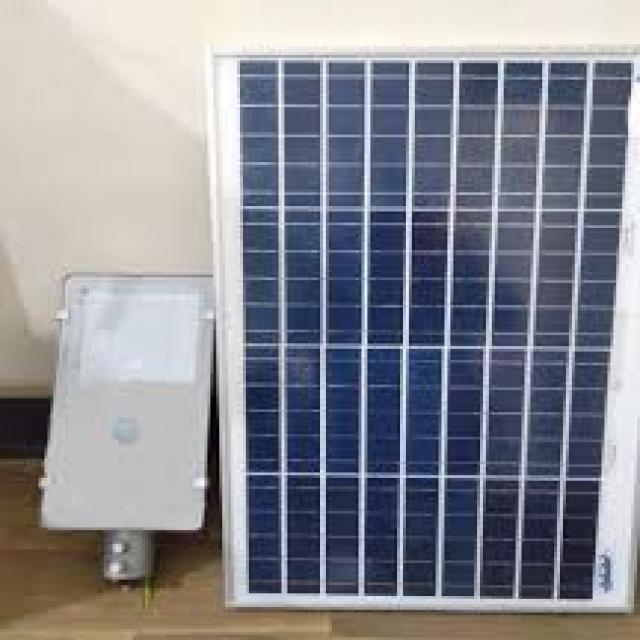no faulty: (247, 50, 598, 598)
